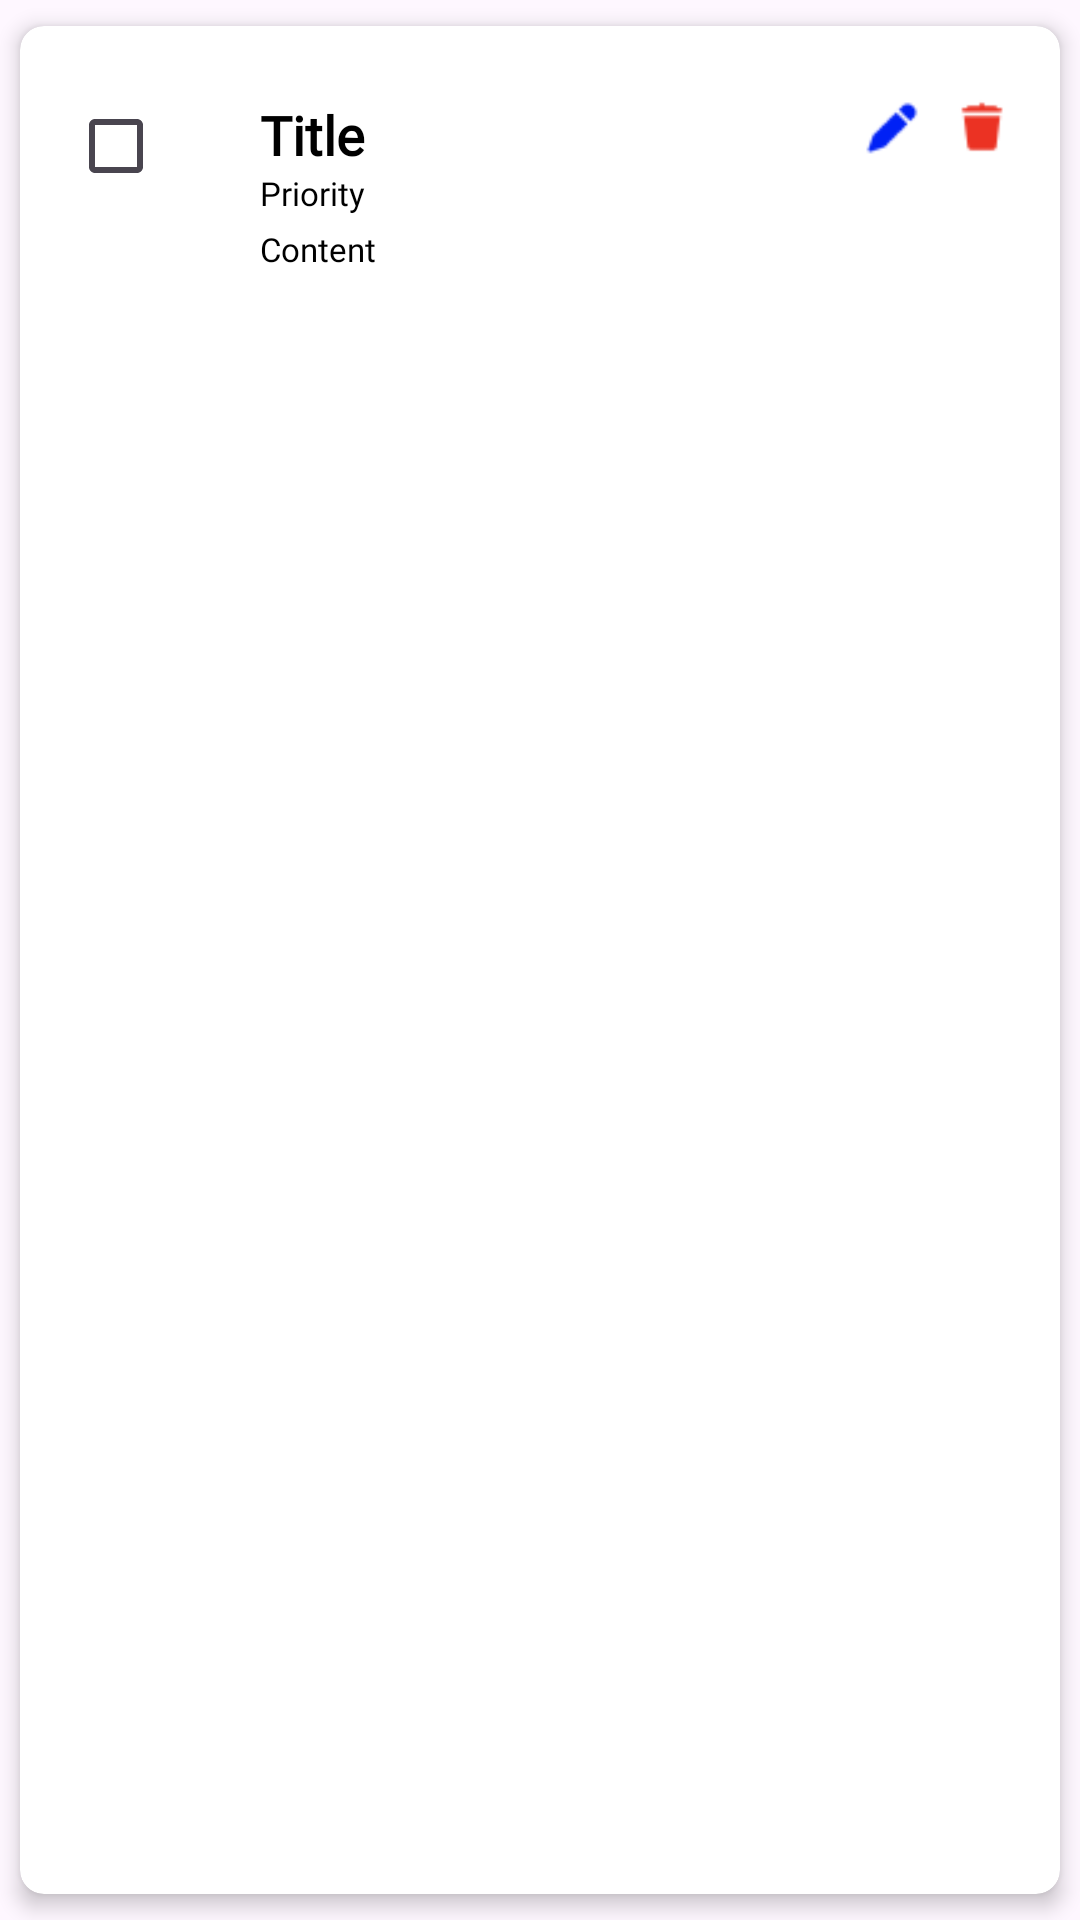

Icon click points for this 1080px×1920px phone screenshot, format (x,y):
delete: (982,126)
edit: (892,128)
